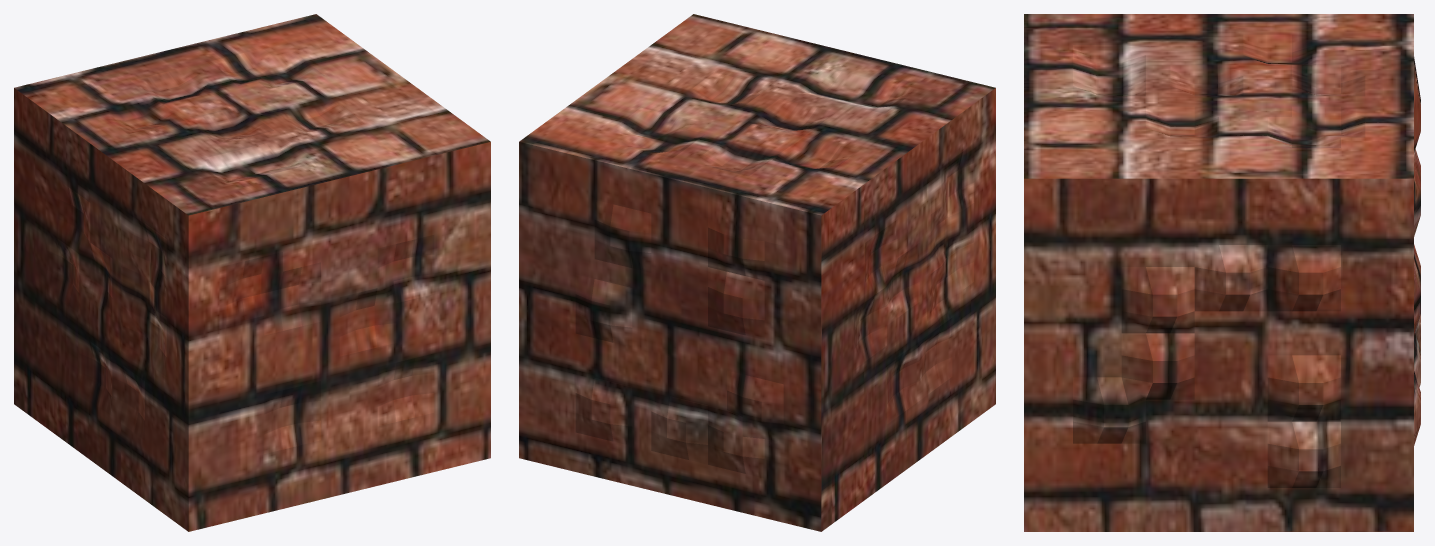
Rendered from wallBlock.fbx.
3 renders of one model, left to right at view 1: azimuth 30°, elevation 25°; view 2: azimuth 150°, elevation 25°; view 3: azimuth 270°, elevation 25°, orthographic. The views are drawn at different scales.
Parts seen in each view (by area): view 1: Cube; view 2: Cube; view 3: Cube.
Part boxes in pixels (x1,y1,x2,y2): Cube: [14, 14, 490, 531]; Cube: [519, 14, 995, 531]; Cube: [1024, 14, 1420, 531].
Bounding box in the file's own units: 207 × 200 × 204.
1 material, 1 textured.
